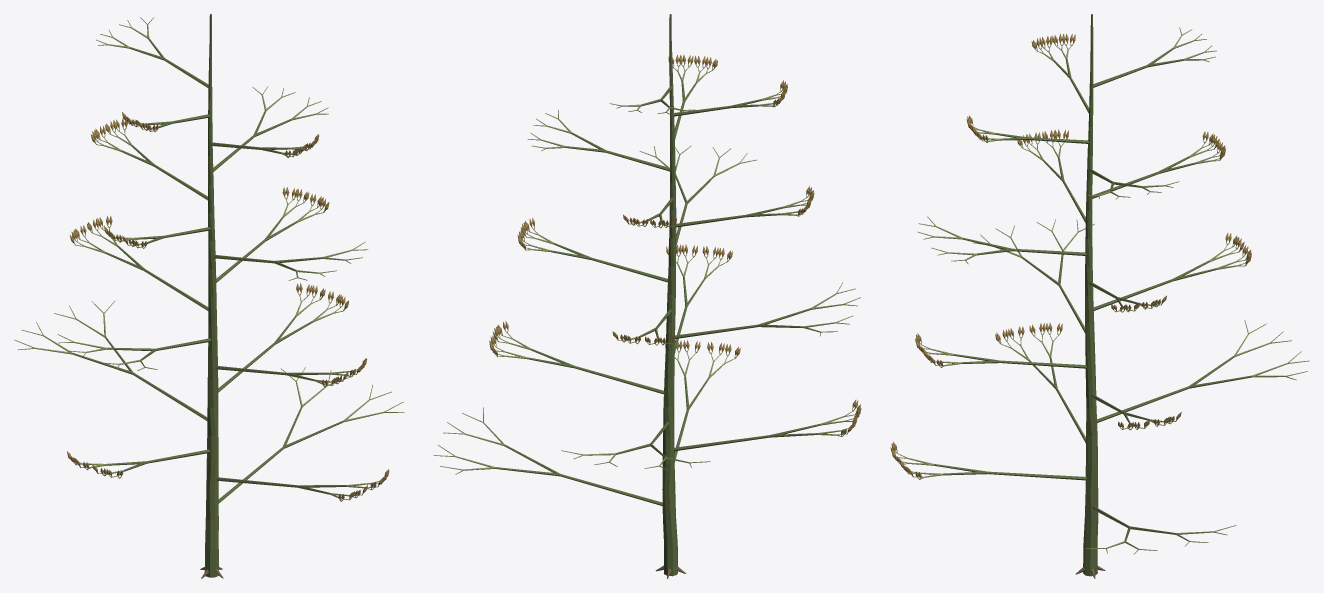
3 views of the same model, side by side, from view 1: azimuth 30°, elevation 25°; view 2: azimuth 150°, elevation 25°; view 3: azimuth 270°, elevation 25° (orthographic).
Visible parts, largest first — view 1: sixteen-four-rank-lateral-systems, dominant-upright-axis; view 2: sixteen-four-rank-lateral-systems, dominant-upright-axis; view 3: sixteen-four-rank-lateral-systems, dominant-upright-axis.
Part boxes in pixels (bbox=[...]): sixteen-four-rank-lateral-systems: bbox=[14, 17, 404, 503]; dominant-upright-axis: bbox=[204, 14, 218, 577]; sixteen-four-rank-lateral-systems: bbox=[433, 54, 861, 505]; dominant-upright-axis: bbox=[662, 14, 677, 576]; sixteen-four-rank-lateral-systems: bbox=[890, 27, 1309, 554]; dominant-upright-axis: bbox=[1083, 14, 1098, 576].
Size of the model in its own units: 0.68 by 1 by 0.68.
